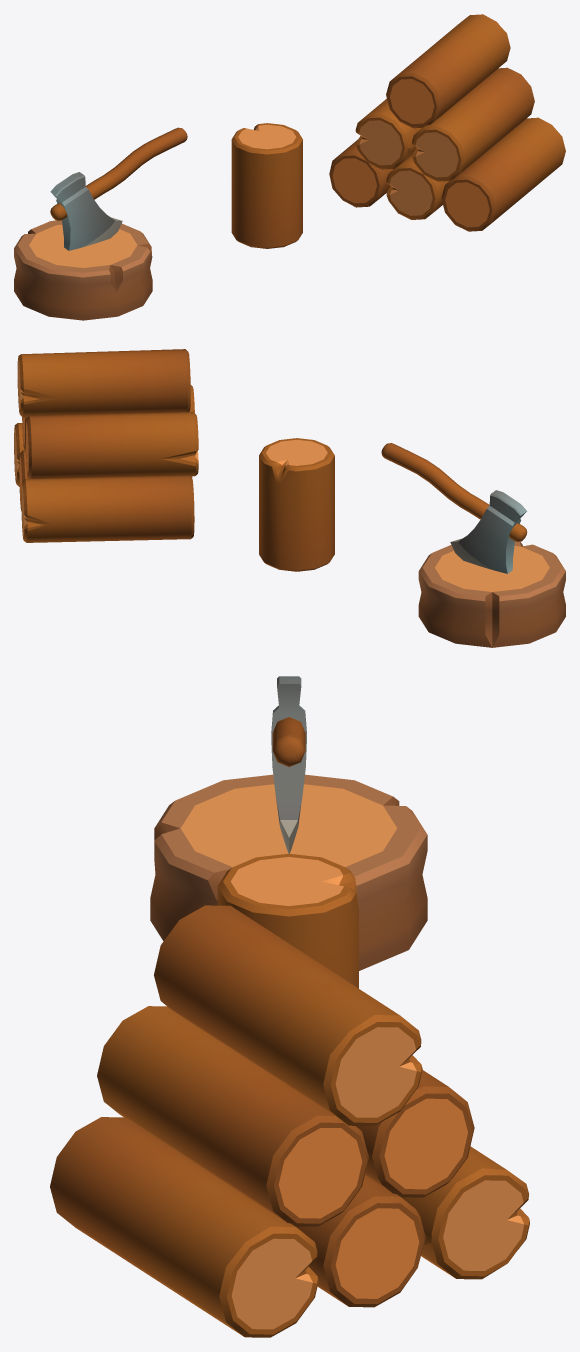
The model's file is pile-de-bois-2.glb.
3 views of the same model, one above another, from view 1: azimuth 30°, elevation 25°; view 2: azimuth 150°, elevation 25°; view 3: azimuth 270°, elevation 25° (orthographic). The views are drawn at different scales.
Visible parts, largest first — view 1: Firewood_03_Material_main_0; view 2: Firewood_03_Material_main_0; view 3: Firewood_03_Material_main_0.
Part boxes in pixels (x1=…): Firewood_03_Material_main_0: x1=14, y1=14, x2=565, y2=320; Firewood_03_Material_main_0: x1=14, y1=349, x2=565, y2=647; Firewood_03_Material_main_0: x1=50, y1=676, x2=529, y2=1337.
Bounding box in the file's own units: 4.53 × 1.31 × 1.79.
1 material, 1 textured.
